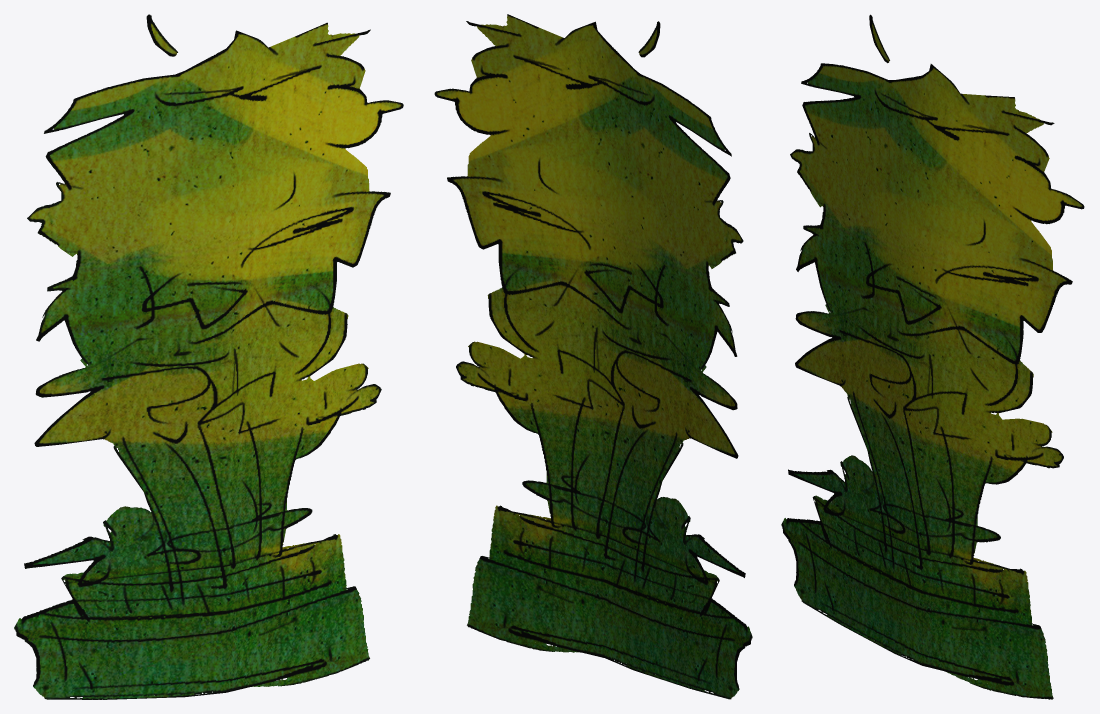
Rendered from 01_plant_01.fbx.
3 renders of one model, left to right at view 1: azimuth 30°, elevation 25°; view 2: azimuth 150°, elevation 25°; view 3: azimuth 330°, elevation 25°, orthographic. The views are drawn at different scales.
Visible parts, largest first — view 1: 植物_01; view 2: 植物_01; view 3: 植物_01.
Part boxes in pixels (box(x1,y1,x2,y2)): 植物_01: box(14, 14, 403, 699); 植物_01: box(434, 14, 752, 699); 植物_01: box(781, 14, 1084, 699).
Size of the model in its own units: 93.23 by 171 by 13.1.
Materials: 1 (1 with a texture image).
